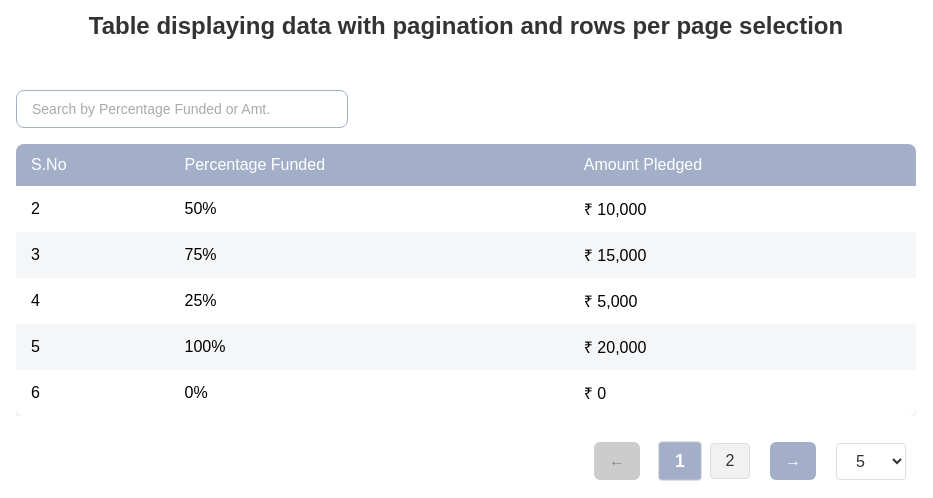
Test: TableContainer › pagination works
Check: the text "50%" is shown, box [170, 186, 569, 232]
Check: the text "75%" is shown, box [170, 232, 569, 278]
Click the button named "Go to next page": (793, 461) [770, 442, 816, 480]
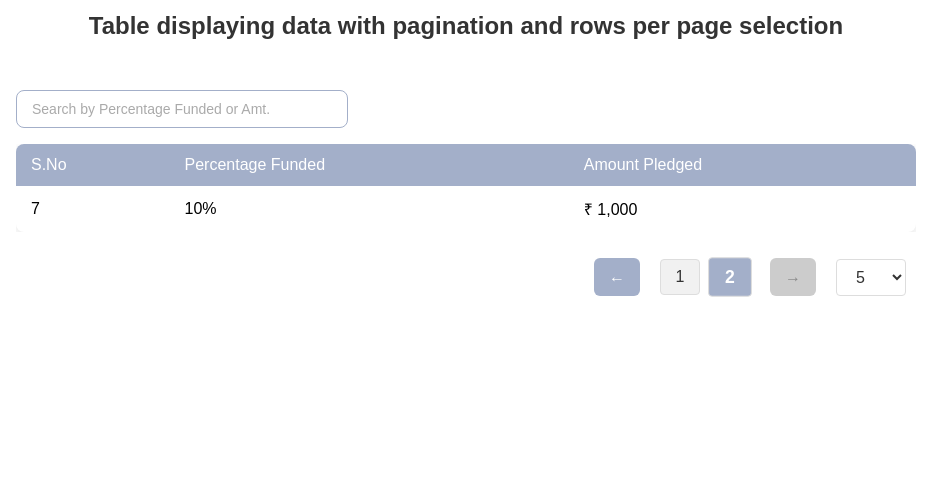
Check: the text "10%" is shown, box [170, 186, 569, 232]
